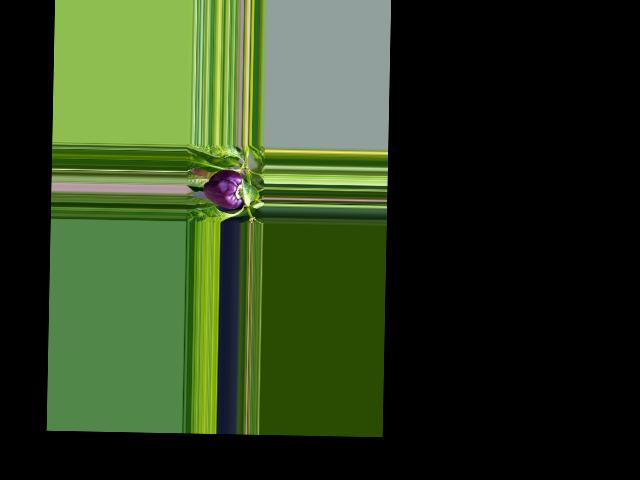bell_pepper: (201, 168, 248, 209)
